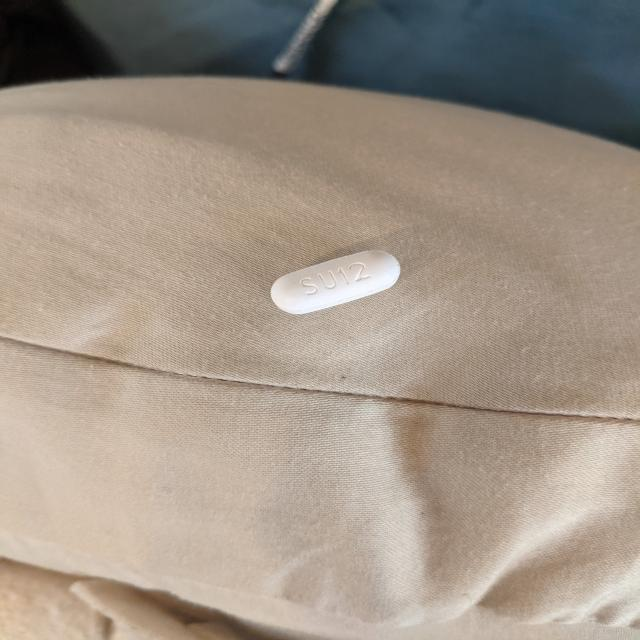non-organic waste: (269, 249, 402, 315)
